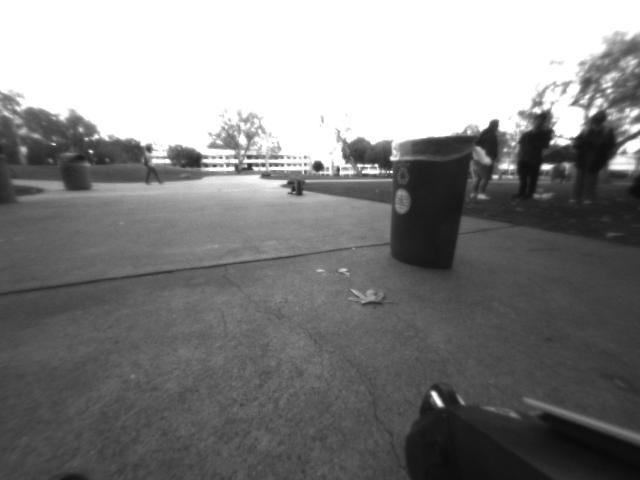trashcan_open: (383, 130, 482, 280)
